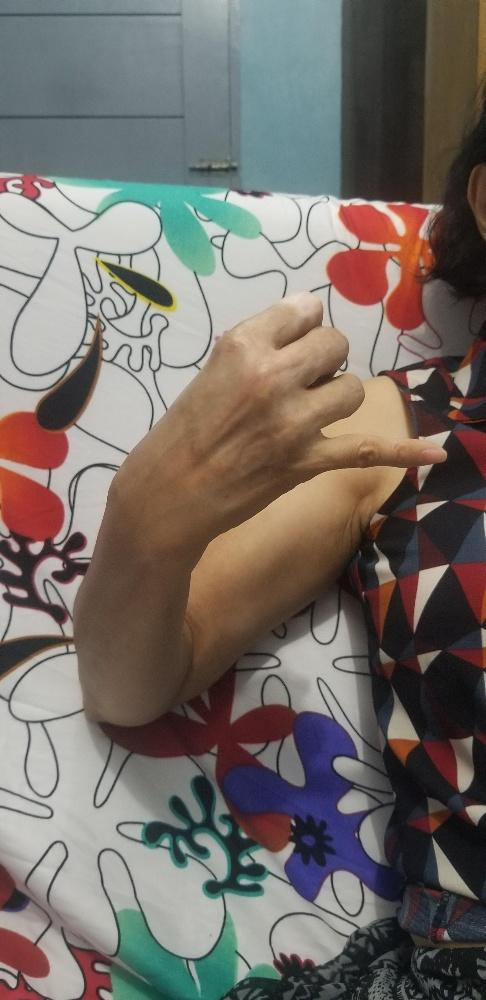j: (101, 289, 449, 544)
